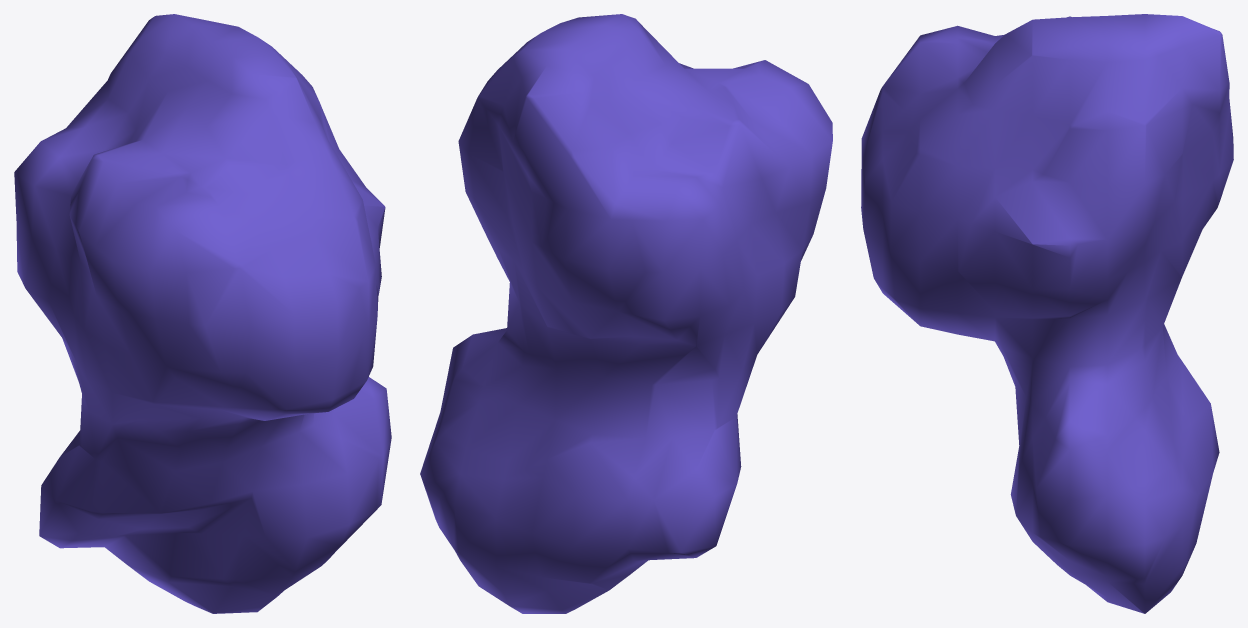
File: Vesicle_22AAligned10.fbx
3 renders of one model, left to right at view 1: azimuth 30°, elevation 25°; view 2: azimuth 150°, elevation 25°; view 3: azimuth 270°, elevation 25°, orthographic. The views are drawn at different scales.
Parts seen in each view (by area): view 1: vesicle_MeshVes22Mesh; view 2: vesicle_MeshVes22Mesh; view 3: vesicle_MeshVes22Mesh.
Part boxes in pixels (x1,y1,x2,y2): vesicle_MeshVes22Mesh: (14,14,391,613); vesicle_MeshVes22Mesh: (420,14,832,613); vesicle_MeshVes22Mesh: (861,14,1233,613).
Size of the model in its own units: 35.75 by 59.79 by 35.15.
